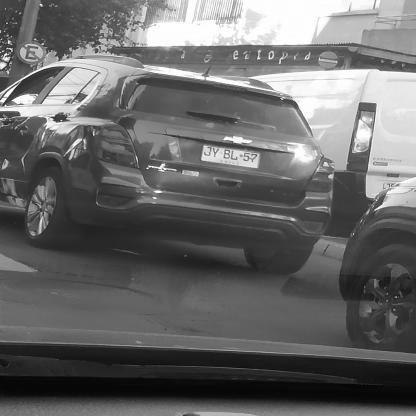Patente: (201, 141, 263, 170)
